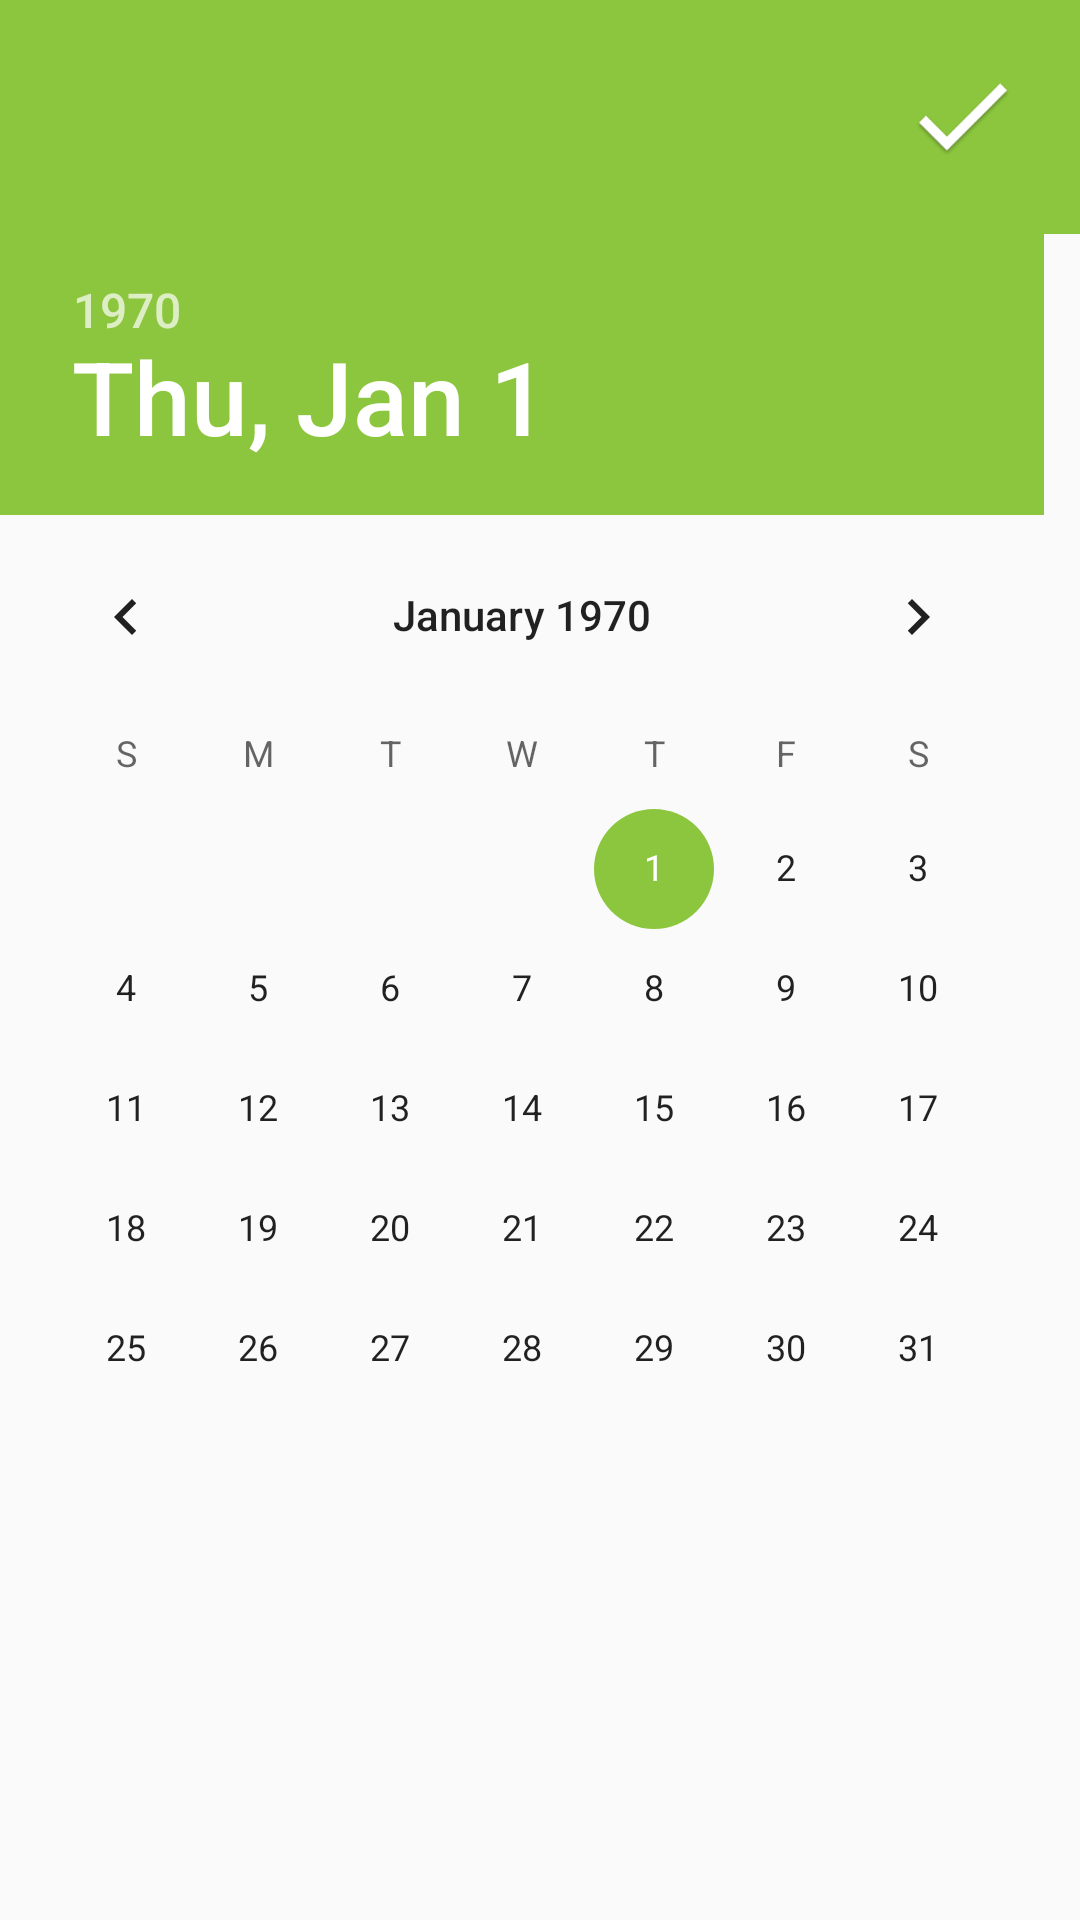

Where icons sit on this 1080px x 1920px app screen, as box=[x1, y1, x2, y2]:
check: box=[919, 83, 1007, 152]
